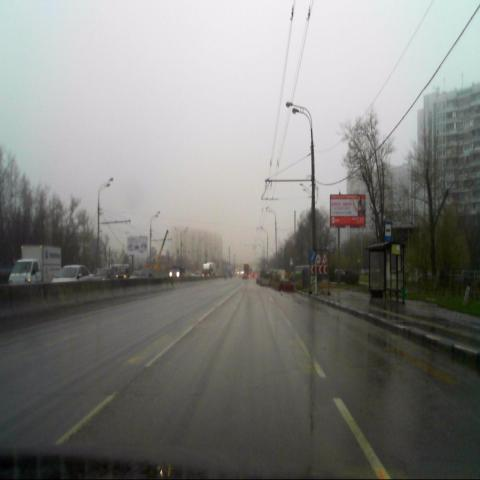5_16: (384, 222, 392, 241)
